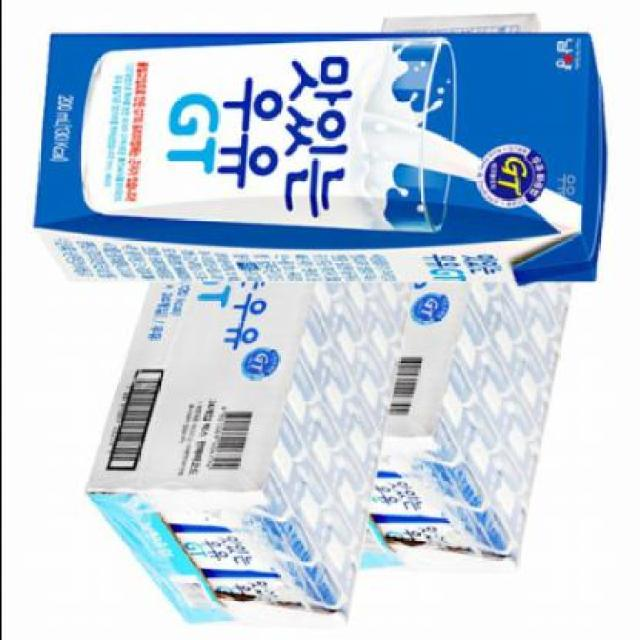tetra: (13, 0, 626, 312)
